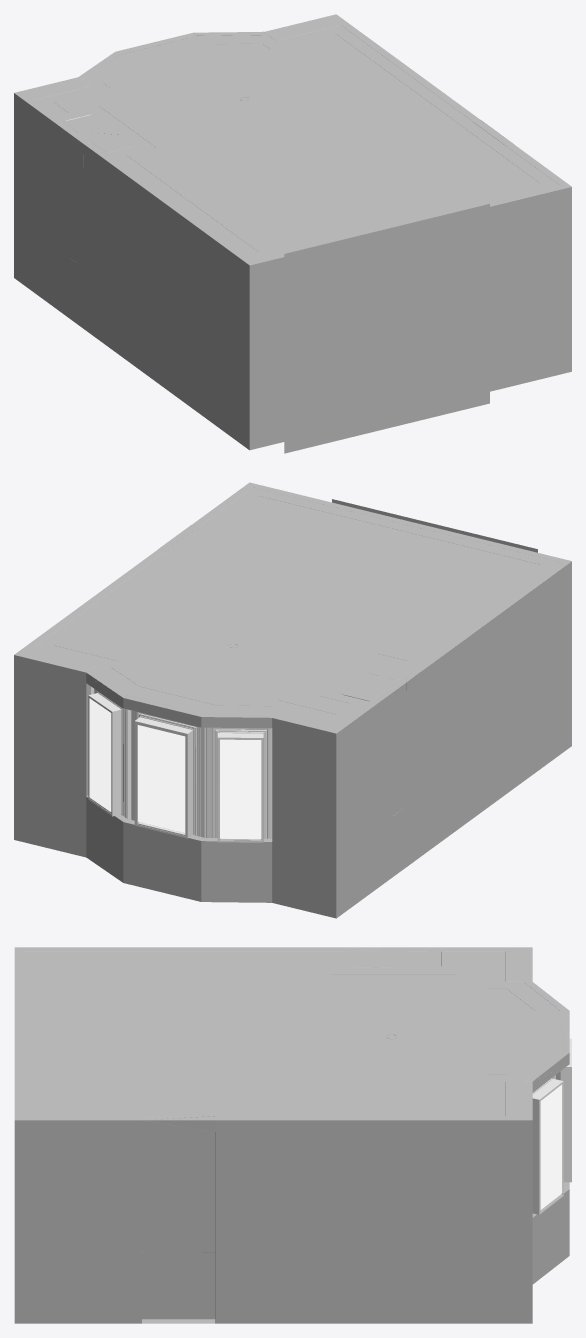
The model's file is white-room.glb.
The picture shows the model from 3 angles, top to bottom: view 1: azimuth 30°, elevation 25°; view 2: azimuth 150°, elevation 25°; view 3: azimuth 270°, elevation 25°; orthographic projection. The views are drawn at different scales.
Parts seen in each view (by area): view 1: Walls_0003, Walls_0002, Walls_0001; view 2: Walls_0003, Walls_0002, object 182, object 183, WhitePaint_0019, object 184, WhitePaint_0021, WhitePaint_0020, WhitePaint_0016, WhitePaint_0017, WhitePaint_0018, Walls_0001; view 3: Walls_0003, Walls_0002, object 184, WhitePaint_0016, WhitePaint_0020.
Boxes of the visible parts, <box> form: Walls_0003: <box>14,14,571,450</box>; Walls_0002: <box>34,25,559,260</box>; Walls_0001: <box>284,204,489,453</box>; Walls_0003: <box>14,482,571,918</box>; Walls_0002: <box>34,487,559,722</box>; object 182: <box>138,725,185,832</box>; object 183: <box>220,739,261,838</box>; WhitePaint_0019: <box>205,727,272,838</box>; object 184: <box>89,698,111,811</box>; WhitePaint_0021: <box>131,710,205,837</box>; WhitePaint_0020: <box>134,717,193,838</box>; WhitePaint_0016: <box>88,693,122,816</box>; WhitePaint_0017: <box>91,686,131,819</box>; WhitePaint_0018: <box>217,732,263,842</box>; Walls_0001: <box>332,499,537,552</box>; Walls_0003: <box>14,947,569,1323</box>; Walls_0002: <box>23,951,560,1116</box>; object 184: <box>540,1084,562,1209</box>; WhitePaint_0016: <box>532,1078,563,1214</box>; WhitePaint_0020: <box>560,1038,571,1182</box>.
Size of the model in its own units: 5.73 by 3.39 by 7.81.
Materials: 19 (19 with a texture image).
